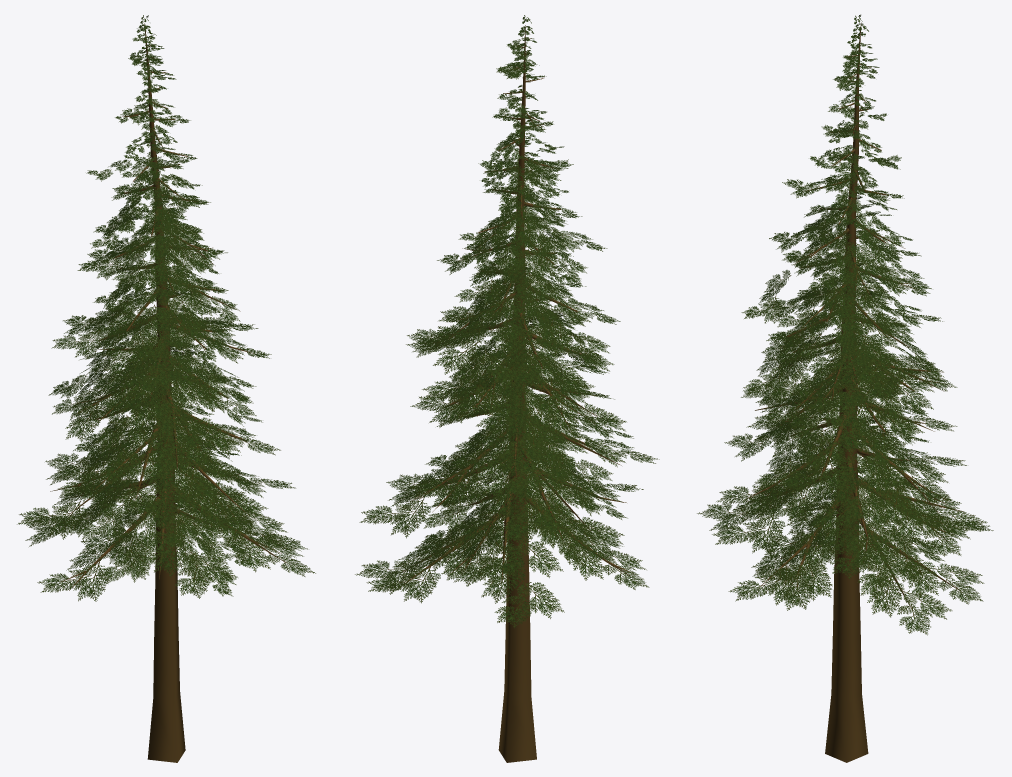
The model's file is PinoAndinoLod.fbx.
3 views of the same model, side by side, from view 1: azimuth 30°, elevation 25°; view 2: azimuth 150°, elevation 25°; view 3: azimuth 270°, elevation 25° (orthographic). The views are drawn at different scales.
Visible parts, largest first — view 1: PinoAndino_LOD00; view 2: PinoAndino_LOD00; view 3: PinoAndino_LOD00.
Boxes of the visible parts, box(x1,y1,x2,y2) form: PinoAndino_LOD00: box(17, 15, 315, 762); PinoAndino_LOD00: box(355, 15, 659, 762); PinoAndino_LOD00: box(697, 14, 993, 762).
Size of what is drawn, in the model's own units: 798 by 2130 by 808.
